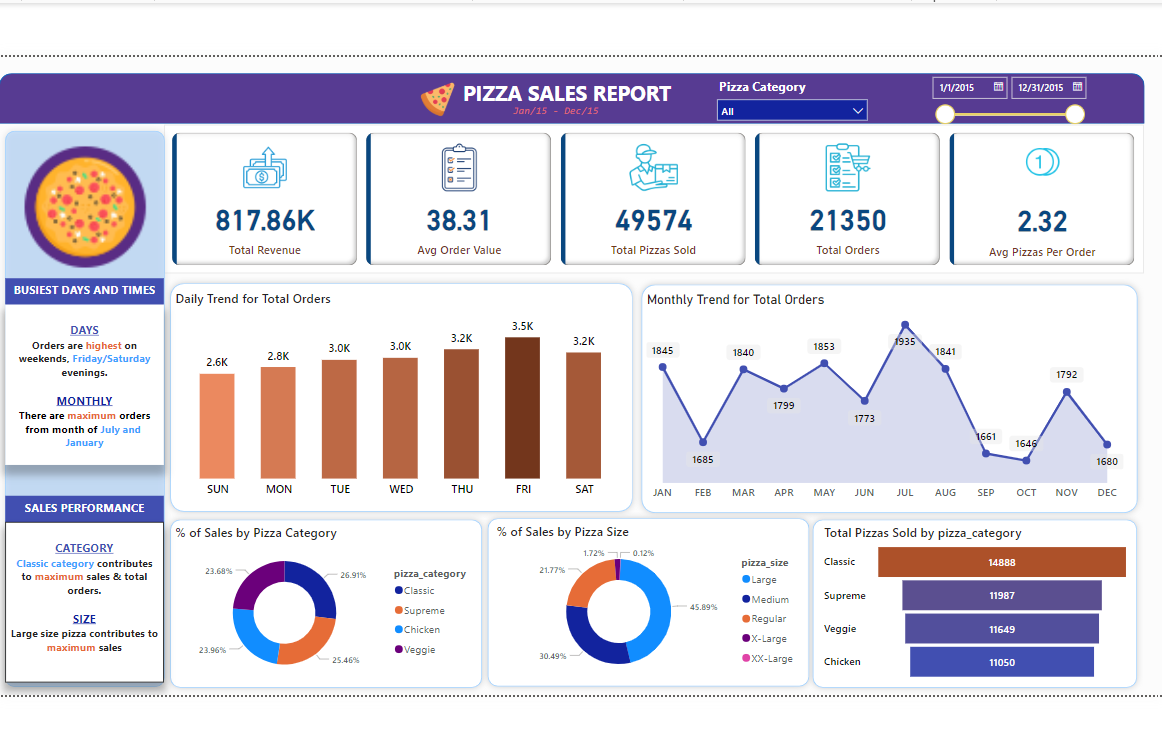

The page's visual inventory and layout, read from the dashboard file:
{"tool":"powerbi","page":{"name":"Page 1","canvas":[1500,820],"ordinal":0},"visuals":[{"type":"cardVisual","fields":{"Data":["pizza_sales.Total Revenue","pizza_sales.Avg Order Value","pizza_sales.Total Pizzas Sold","pizza_sales.Total Orders","pizza_sales.Avg Pizzas Per Order"]},"box":[212,86.6,1260.6,191.5],"z":0},{"type":"shape","box":[0,21.7,1473.8,65],"z":1000},{"type":"textbox","box":[591.1,22.2,291.1,46.7],"z":2000},{"type":"textbox","box":[656.7,54.4,257.8,36.7],"z":3000},{"type":"image","box":[536.7,22.2,54.4,64.4],"z":4000},{"type":"shape","box":[212,282.7,610.9,310],"z":5000},{"type":"columnChart","title":"Daily Trend for Total Orders","fields":{"Category":["pizza_sales.Order Day"],"Y":["pizza_sales.Total Orders"]},"box":[221.1,299.8,591.6,275.8],"z":6000},{"type":"shape","box":[818.4,285.4,654.3,310],"z":7000},{"type":"areaChart","title":"Monthly Trend for Total Orders","fields":{"Category":["pizza_sales.Order Month"],"Y":["pizza_sales.Total Orders"]},"box":[827.5,302.5,623.5,275.8],"z":8000},{"type":"shape","box":[212,587,417.2,232.5],"z":9000},{"type":"shape","box":[620.1,585.9,429.7,232.5],"z":10000},{"type":"shape","box":[1039.5,587,433.1,232.5],"z":11000},{"type":"donutChart","title":"% of Sales by Pizza Category","fields":{"Category":["pizza_sales.pizza_category"],"Y":["pizza_sales.Total Revenue"]},"box":[221.1,599.5,400.1,208.6],"z":12000},{"type":"donutChart","title":"% of Sales by Pizza Size","fields":{"Y":["pizza_sales.Total Revenue"],"Category":["pizza_sales.pizza_size"]},"box":[634.9,598.4,404.6,208.6],"z":13000},{"type":"shape","box":[0,86.6,221.1,731.8],"z":14000},{"type":"funnel","fields":{"Category":["pizza_sales.pizza_category"],"Y":["pizza_sales.Total Pizzas Sold"]},"box":[1056.6,599.5,403.5,206.3],"z":15000},{"type":"textbox","box":[8,285,204,34.2],"z":16000},{"type":"textbox","box":[8,319.1,204,206.3],"z":17000},{"type":"textbox","box":[8,564.2,204,34.2],"z":18000},{"type":"textbox","box":[8,598.4,204,206.3],"z":19000},{"type":"slicer","fields":{"Values":["pizza_sales.pizza_category"]},"box":[914.1,21.7,214.3,60.4],"z":20000},{"type":"slicer","fields":{"Values":["pizza_sales.order_date"]},"box":[1188.8,21.7,216.6,69.5],"z":21000},{"type":"image","box":[25.1,107.1,171,171],"z":21001}]}

Visuals, with their boxes in screenshot pixels (x1, y1, x2, y2):
cardVisual - pizza_sales.Total Revenue x pizza_sales.Avg Order Value: 165, 120, 1161, 272
shape: 0, 69, 1161, 120
textbox: 465, 69, 696, 106
textbox: 517, 95, 721, 124
image: 422, 69, 465, 120
shape: 165, 275, 649, 521
"Daily Trend for Total Orders" columnChart: 172, 289, 641, 507
shape: 645, 277, 1161, 523
"Monthly Trend for Total Orders" areaChart: 652, 291, 1146, 509
shape: 165, 516, 495, 701
shape: 488, 515, 828, 700
shape: 820, 516, 1161, 701
"% of Sales by Pizza Category" donutChart: 172, 526, 489, 691
"% of Sales by Pizza Size" donutChart: 500, 525, 820, 691
shape: 0, 120, 172, 700
funnel - pizza_sales.pizza_category x pizza_sales.Total Pizzas Sold: 834, 526, 1153, 690
textbox: 3, 277, 165, 304
textbox: 3, 304, 165, 468
textbox: 3, 498, 165, 525
textbox: 3, 525, 165, 689
slicer - pizza_sales.pizza_category: 721, 69, 891, 116
slicer - pizza_sales.order_date: 939, 69, 1110, 124
image: 17, 136, 152, 272
